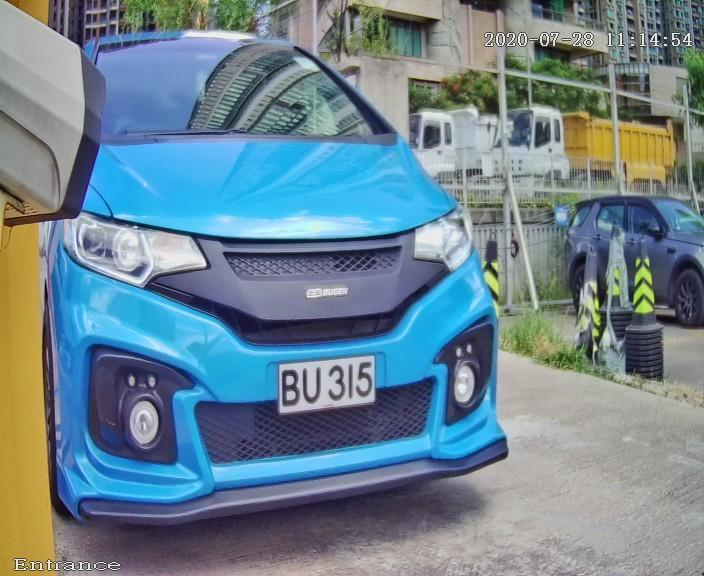privatecar: (10, 1, 617, 556)
